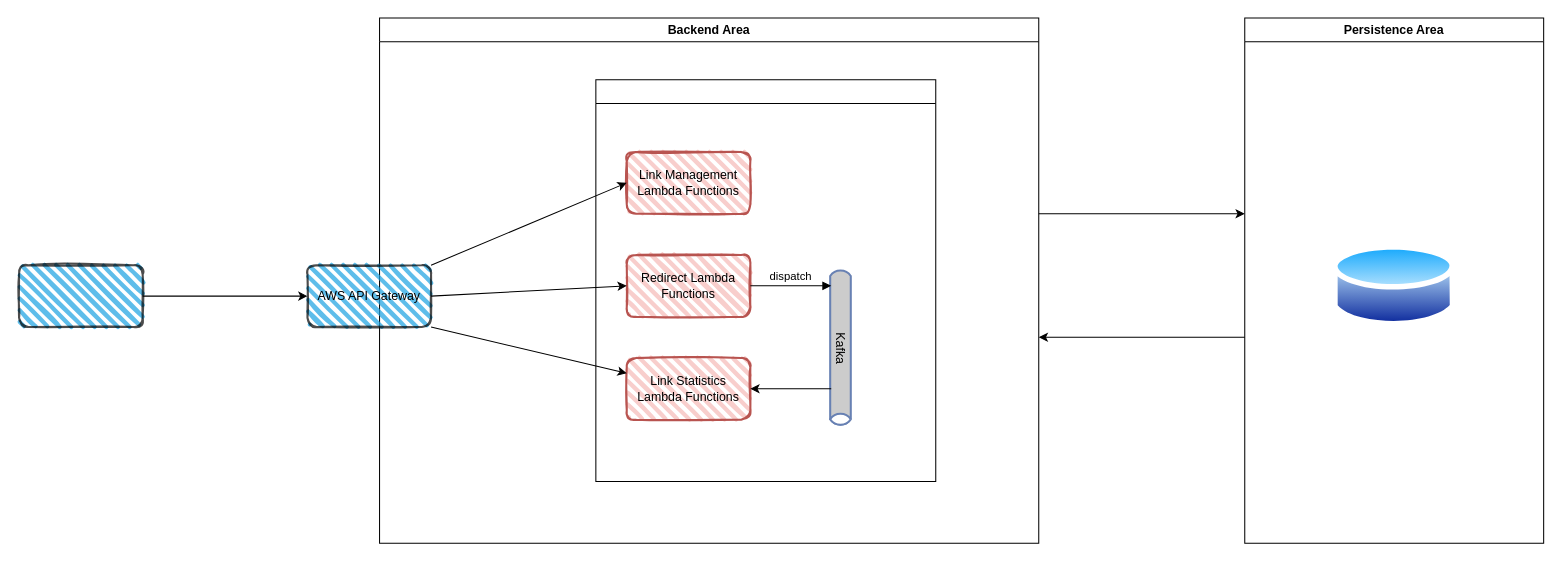
Image size: 1561x561. Some labels were removed from this diagram. Each missing label, with the centre of its shape:
Client: the point at 80,296
DynamoDB: the point at 1393,285
Lambda Area: the point at 765,280
